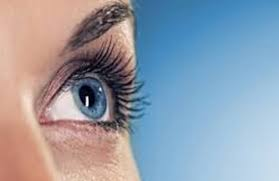pupil: (73, 77, 106, 119)
